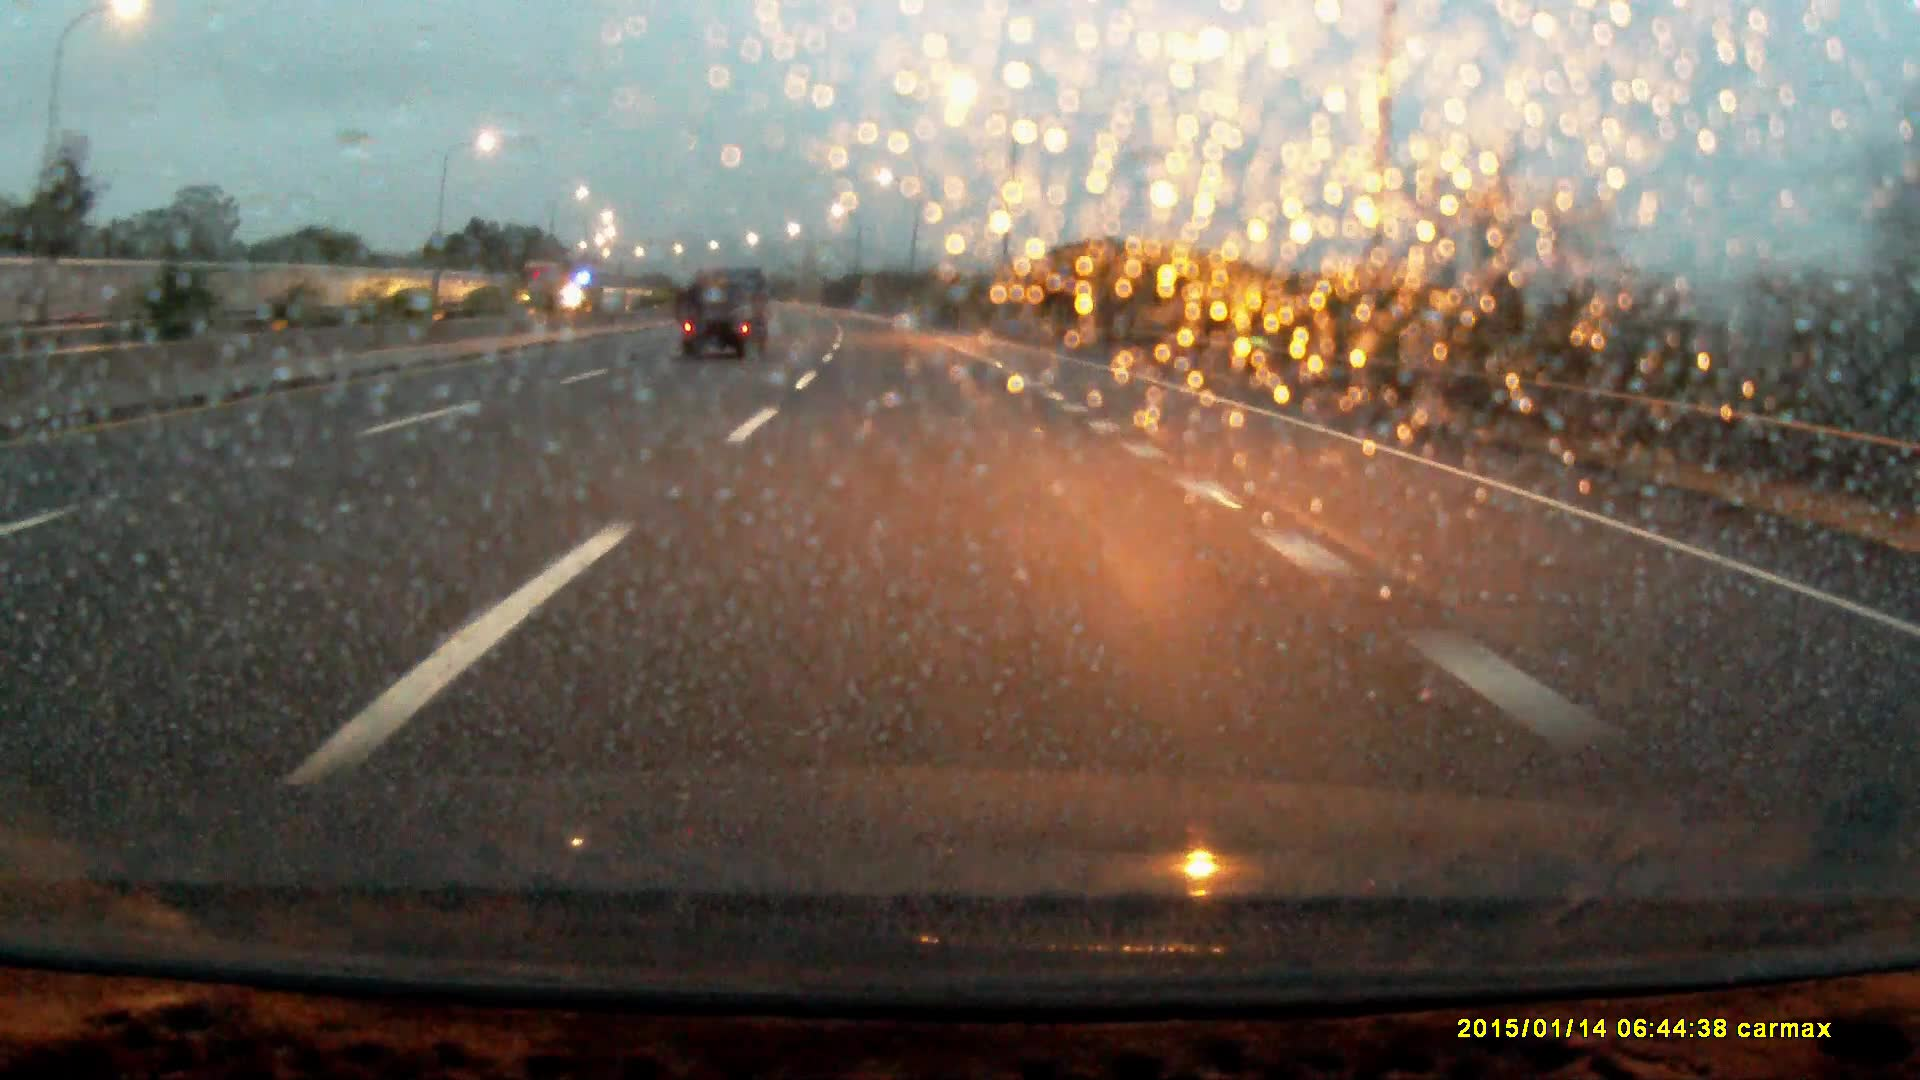vehicle: (682, 265, 767, 361), (513, 262, 570, 310)
